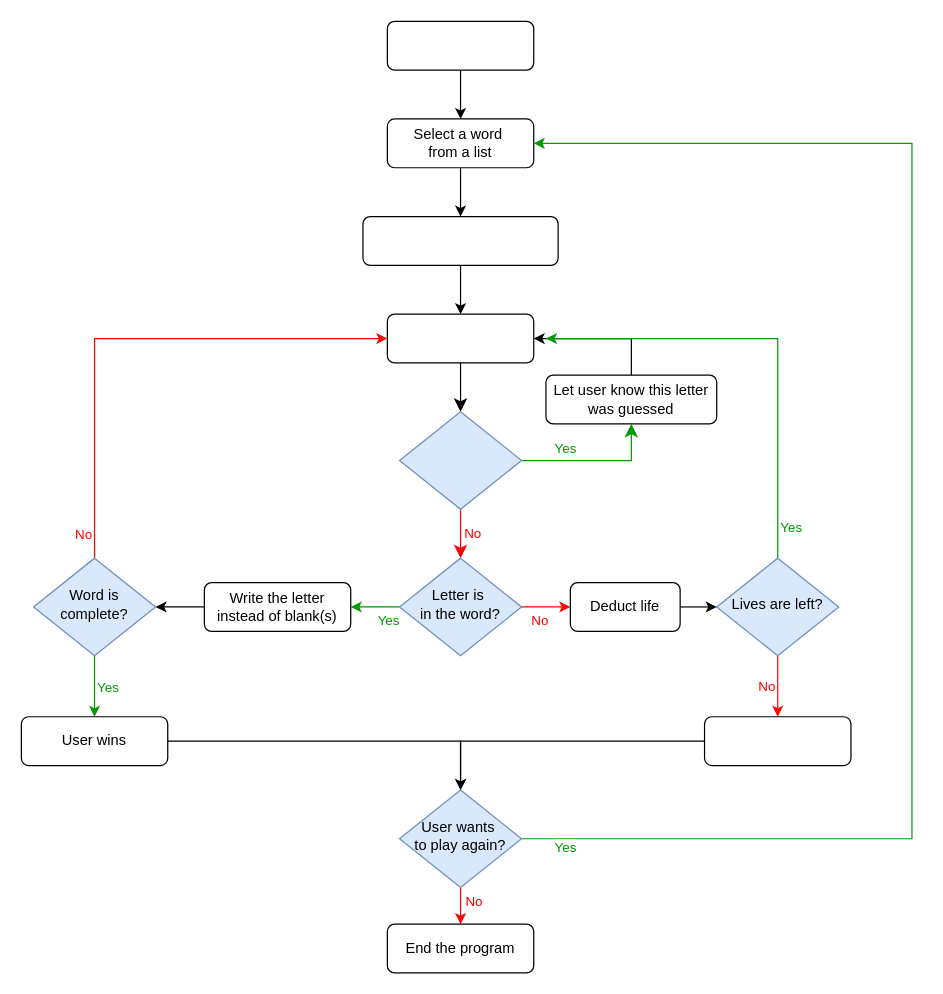
This 943x994 diagram has some shape labels left out. Each missing label, with the box of its shape:
Ask user to guess a letter: (386, 313, 534, 363)
Generate as many blanks as there are letters in the word: (362, 215, 558, 265)
Letter was already guessed?: (398, 411, 522, 509)
Start: (386, 20, 534, 70)
User loses: (703, 716, 851, 766)
